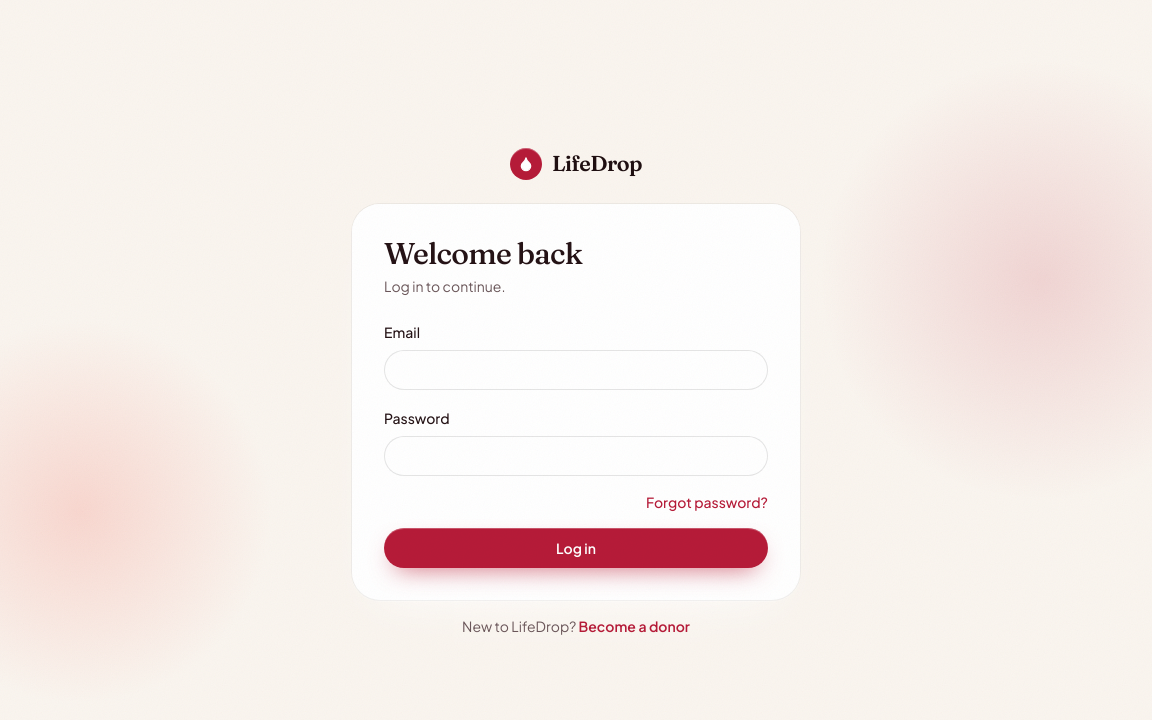
LoginPage › rejects a malformed email
The image size is (1152, 720).
Type "not-an-email" into the field labelled "Email".
click(576, 370); type("not-an-email")  # box x1=384 y1=350 x2=768 y2=390
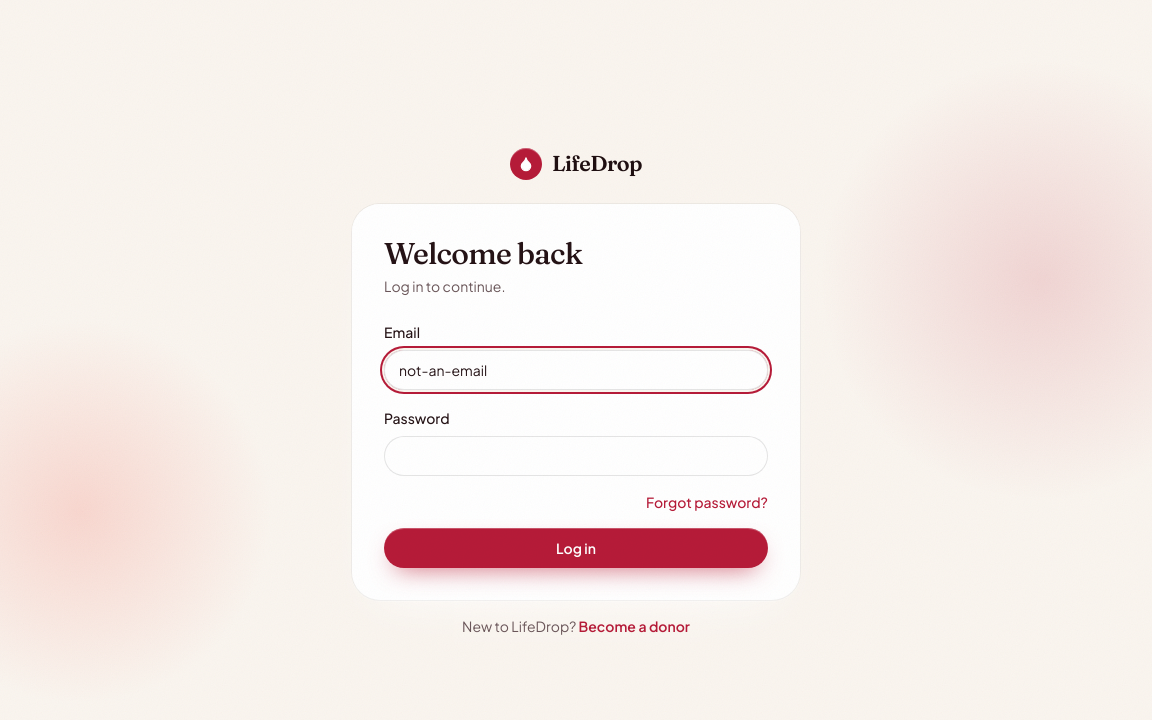
Type "x" into the password field labelled "Password".
click(576, 456); type("x")  # box x1=384 y1=436 x2=768 y2=476
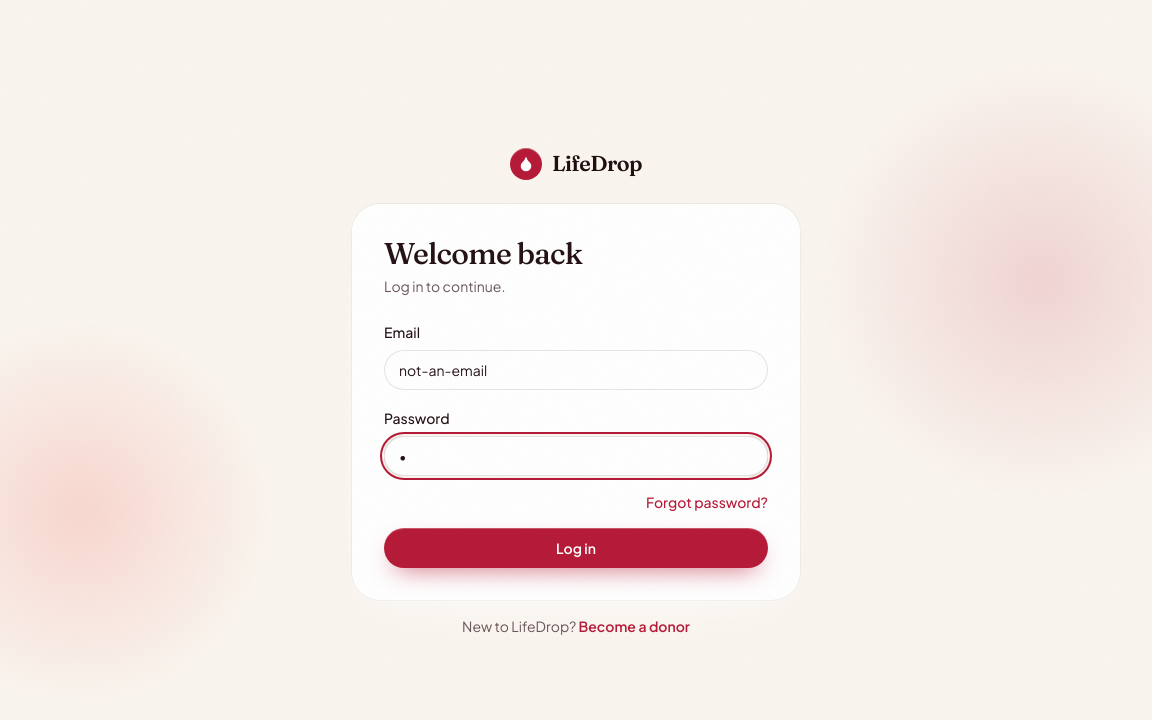
Click the button "Log in".
click(576, 548)  # box x1=384 y1=528 x2=768 y2=568
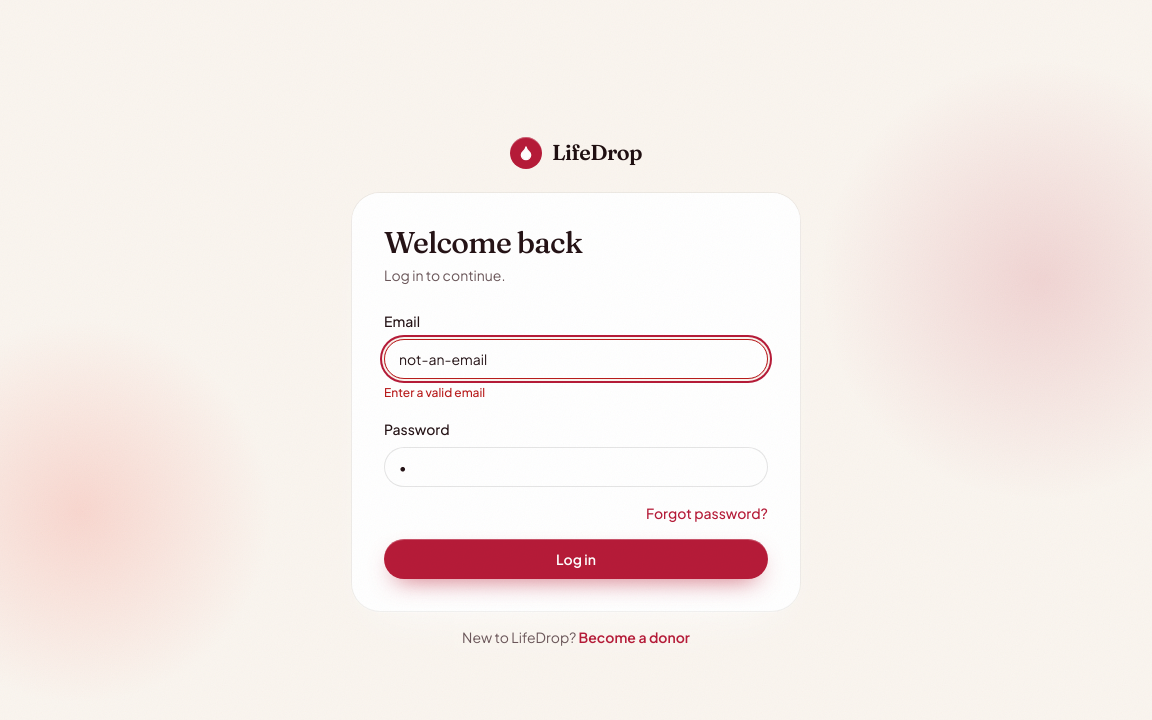
Now the text "Enter a valid email" is shown, box x1=384 y1=385 x2=485 y2=400
